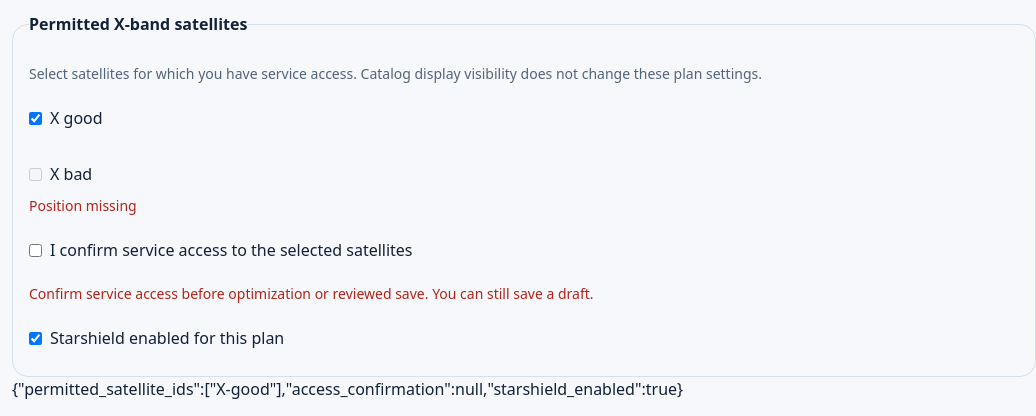
preselects only eligible X, requires access, and resets binding on set changes
The width and height of the screenshot is (1036, 416).
Check: the checkbox labelled "X good" is checked, box 29,112 -> 42,124
Check: the checkbox labelled "X bad" is disabled, box 29,168 -> 42,180
Click the checkbox labelled "I confirm service access to the selected satellites" at (36, 250), box 29,244 -> 42,256
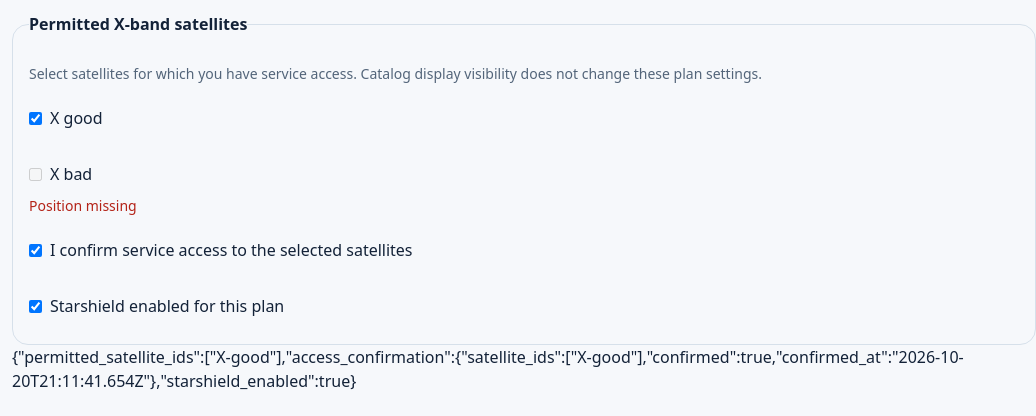
Check: the checkbox labelled "I confirm service access to the selected satellites" is checked, box 29,244 -> 42,256
Click the checkbox labelled "X good" at (36, 118), box 29,112 -> 42,124
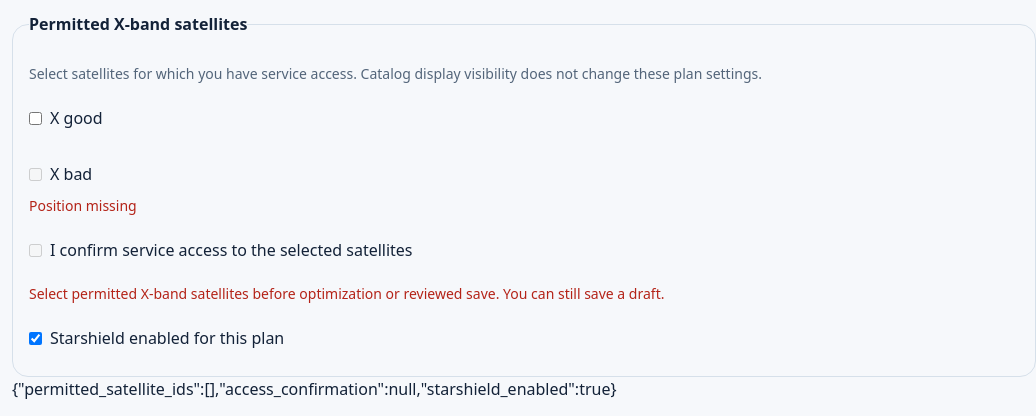
Check: the checkbox labelled "I confirm service access to the selected satellites" is not checked, box 29,244 -> 42,256
Check: the message shows "Select", box 29,284 -> 499,303
